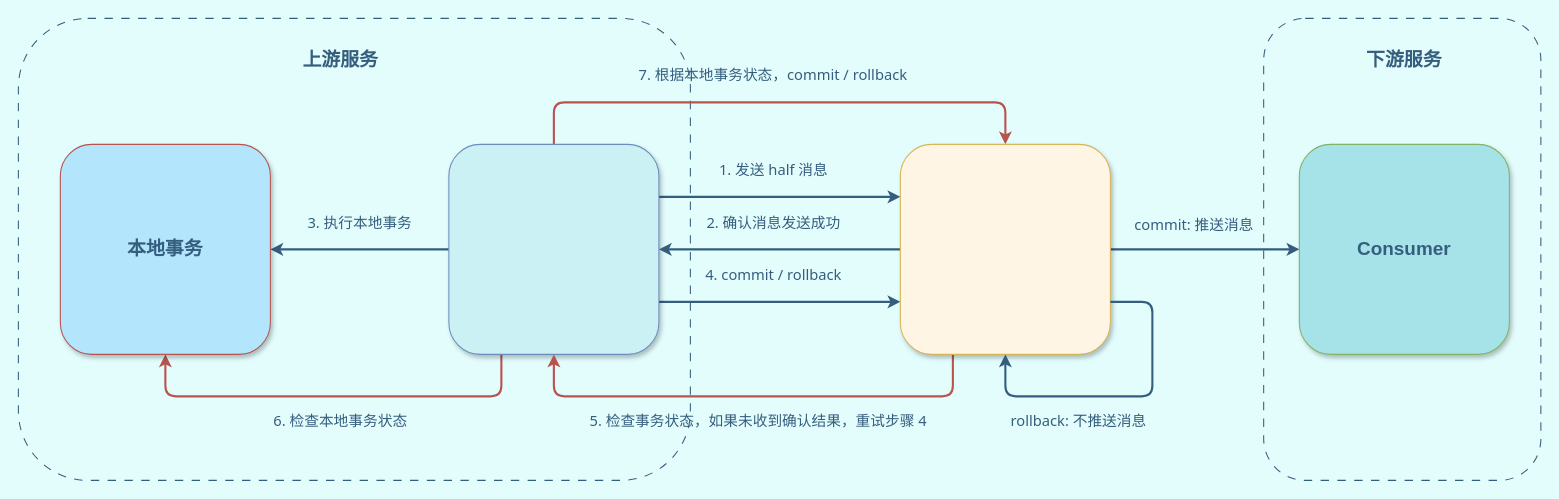
Image size: 1559x499. Some labels were removed from this diagram. Here are the shapes that lost their labels. From the top down, the centre of each, then its label:
the point at 554,250: Producer
the point at 1006,250: RocketMQ Server
